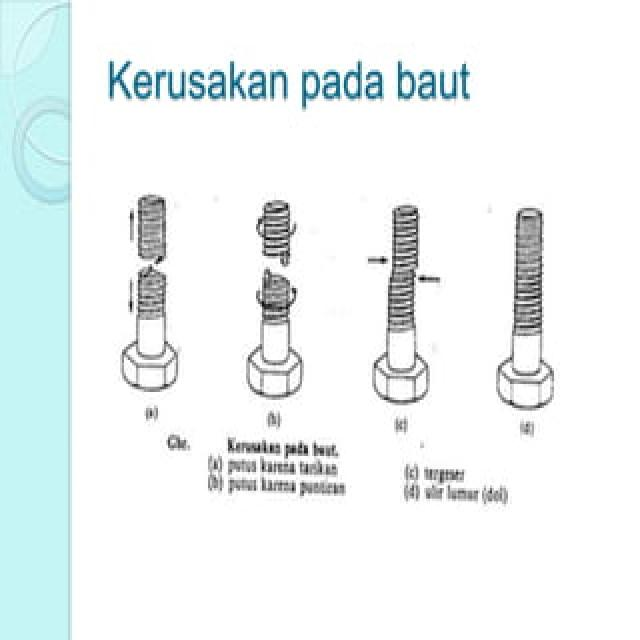Logam: (119, 116, 613, 458)
